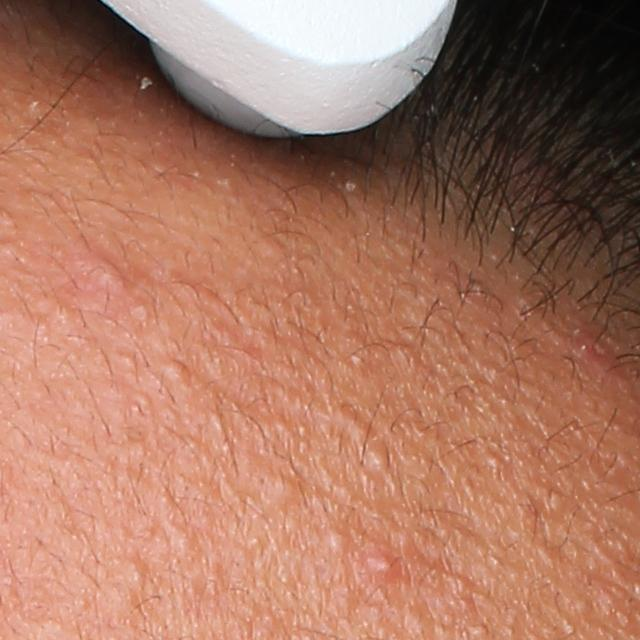comedo: (265, 470, 306, 506), (130, 295, 154, 326), (362, 449, 385, 476), (342, 343, 366, 368), (164, 360, 186, 386), (482, 452, 505, 475), (125, 561, 144, 587), (324, 530, 346, 551)
papule: (568, 324, 618, 371), (88, 254, 135, 294), (364, 541, 406, 583)
